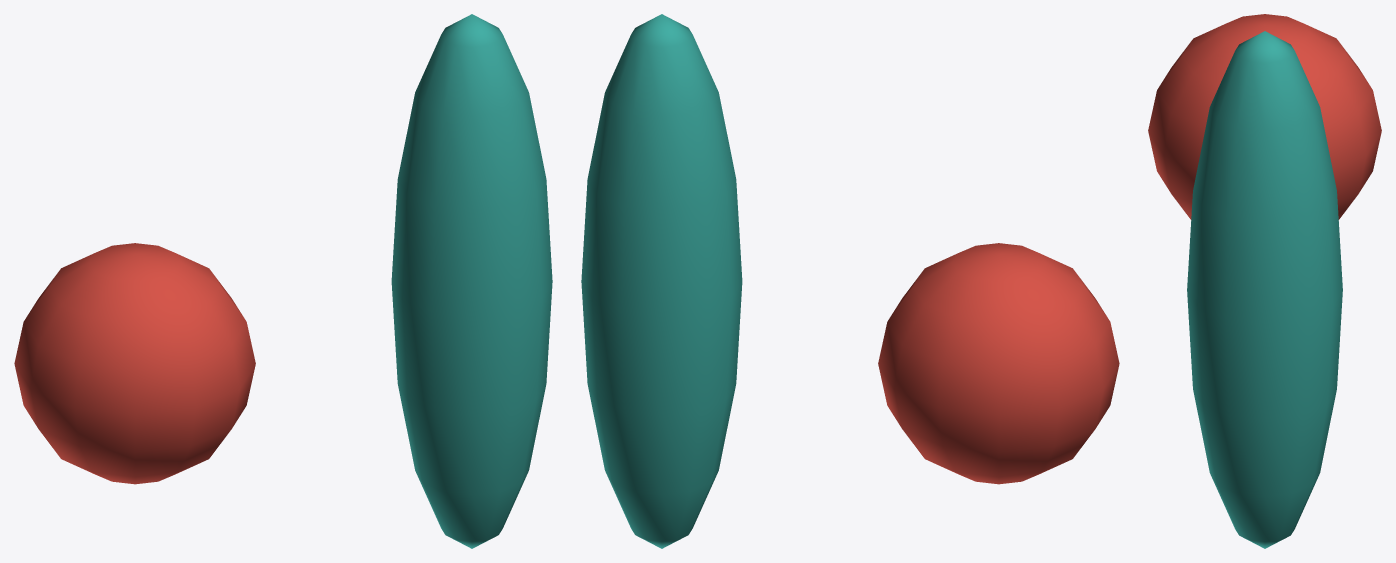
File: named-parts.glb
3 views of the same model, side by side, from view 1: azimuth 30°, elevation 25°; view 2: azimuth 150°, elevation 25°; view 3: azimuth 270°, elevation 25° (orthographic). The views are drawn at different scales.
Parts seen in each view (by area): view 1: neuron.dendrites, neuron.soma; view 2: neuron.dendrites, neuron.soma; view 3: neuron.dendrites, neuron.soma.
Boxes of the visible parts, x1=… form: neuron.dendrites: x1=391, y1=14, x2=552, y2=548; neuron.soma: x1=14, y1=243, x2=255, y2=484; neuron.dendrites: x1=581, y1=14, x2=742, y2=548; neuron.soma: x1=878, y1=243, x2=1119, y2=484; neuron.dendrites: x1=1187, y1=31, x2=1342, y2=548; neuron.soma: x1=1148, y1=14, x2=1381, y2=219.
Bounding box in the file's own units: 2.2 × 2.2 × 0.9.
